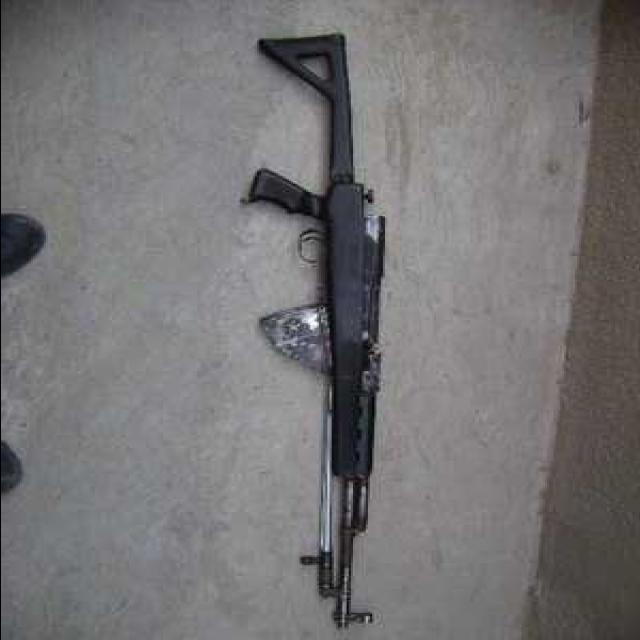heavyweapon: (221, 17, 445, 633)
